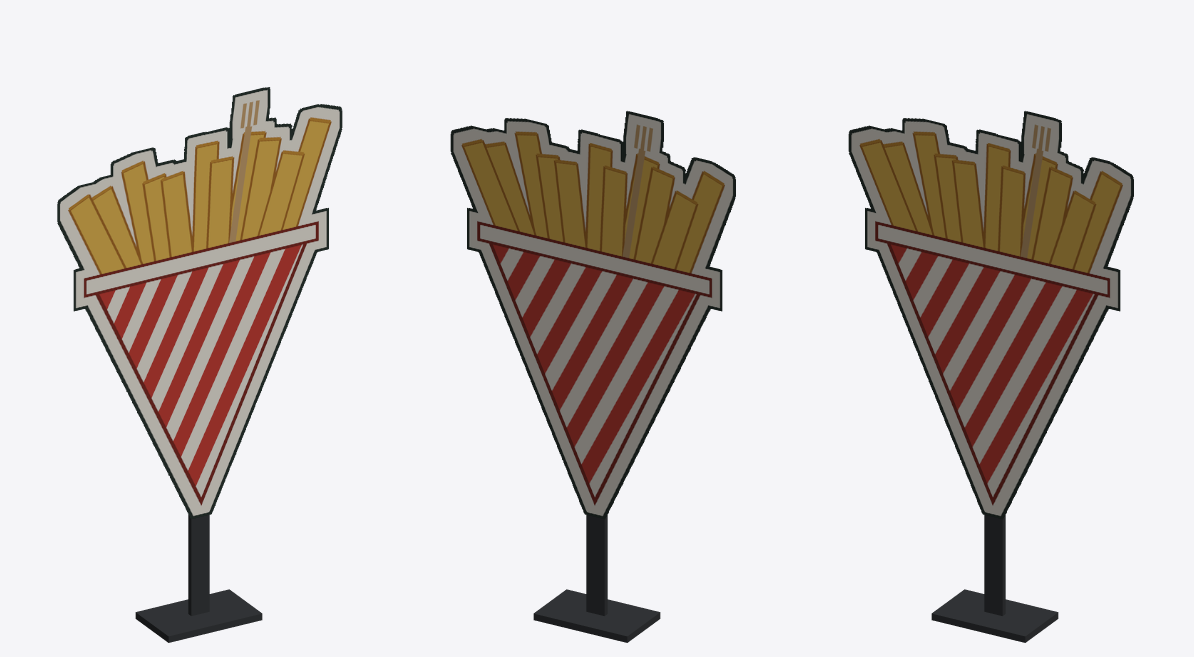
File: lwf_food_van_sign_chips_v1.glb
3 views of the same model, side by side, from view 1: azimuth 30°, elevation 25°; view 2: azimuth 150°, elevation 25°; view 3: azimuth 330°, elevation 25° (orthographic).
Parts seen in each view (by area): view 1: LWF_FoodVan_Sign_Chips; view 2: LWF_FoodVan_Sign_Chips; view 3: LWF_FoodVan_Sign_Chips.
Part boxes in pixels (x1,y1,x2,y2): LWF_FoodVan_Sign_Chips: (57, 87, 342, 642); LWF_FoodVan_Sign_Chips: (450, 111, 735, 642); LWF_FoodVan_Sign_Chips: (848, 111, 1133, 642).
Bounding box in the file's own units: 1.4 × 2.05 × 0.22.
Materials: 2 (1 with a texture image).
